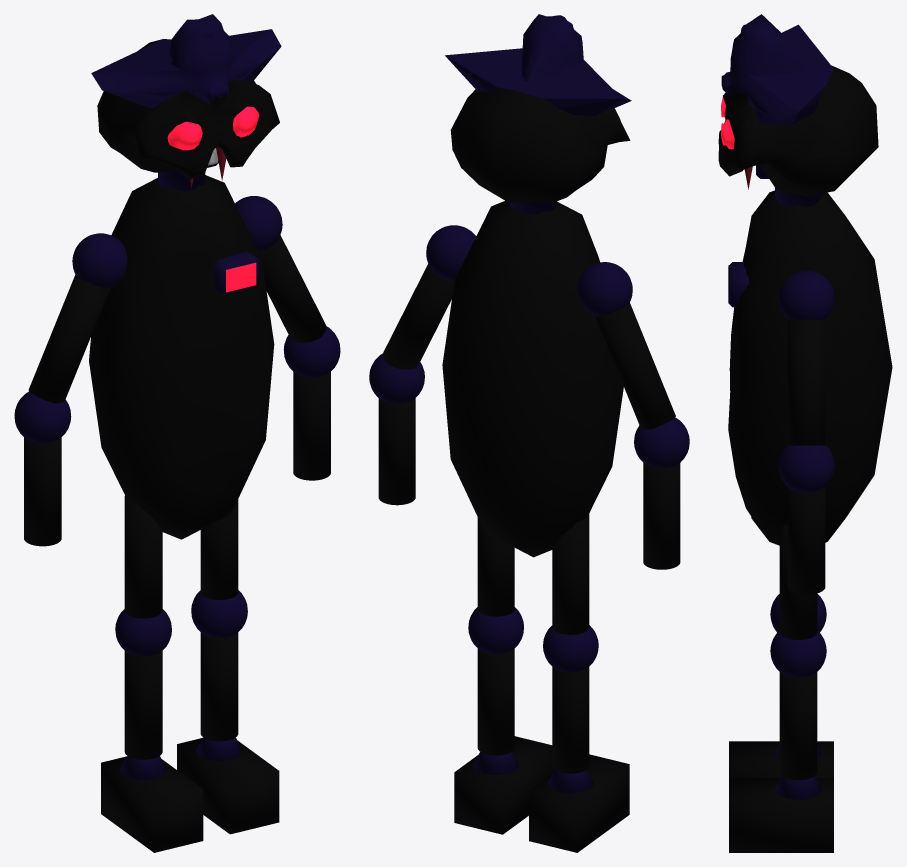
Rendered from Zaero.fbx.
3 views of the same model, side by side, from view 1: azimuth 30°, elevation 25°; view 2: azimuth 150°, elevation 25°; view 3: azimuth 270°, elevation 25° (orthographic).
Parts seen in each view (by area): view 1: right shoulder.001; view 2: right shoulder.001; view 3: right shoulder.001.
Part boxes in pixels (x1,y1,x2,y2): right shoulder.001: [14, 14, 340, 852]; right shoulder.001: [369, 14, 689, 852]; right shoulder.001: [718, 14, 892, 852].
Bounding box in the file's own units: 388 × 942 × 185.
